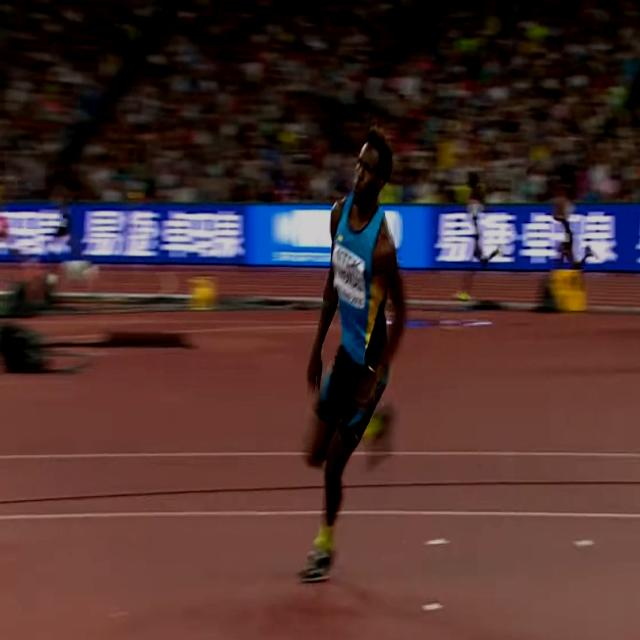run: (299, 131, 407, 581)
